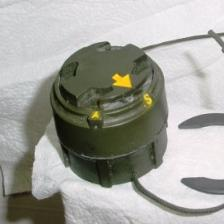M14: (52, 39, 180, 191)
